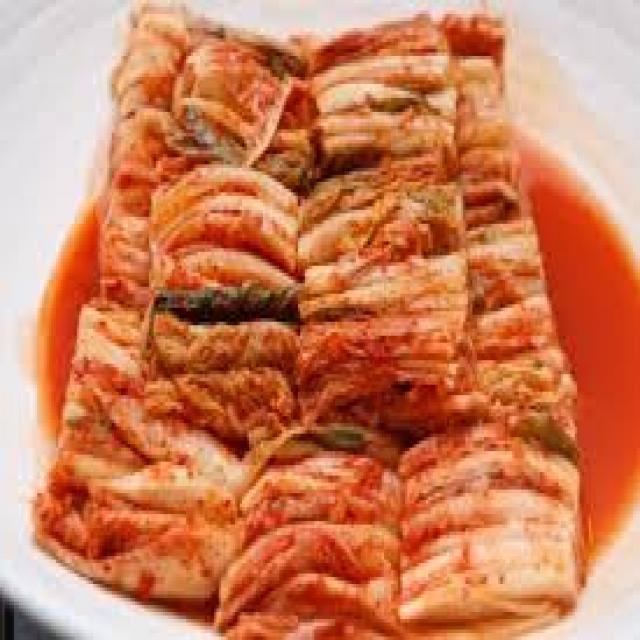kimchi: (140, 168, 493, 601)
